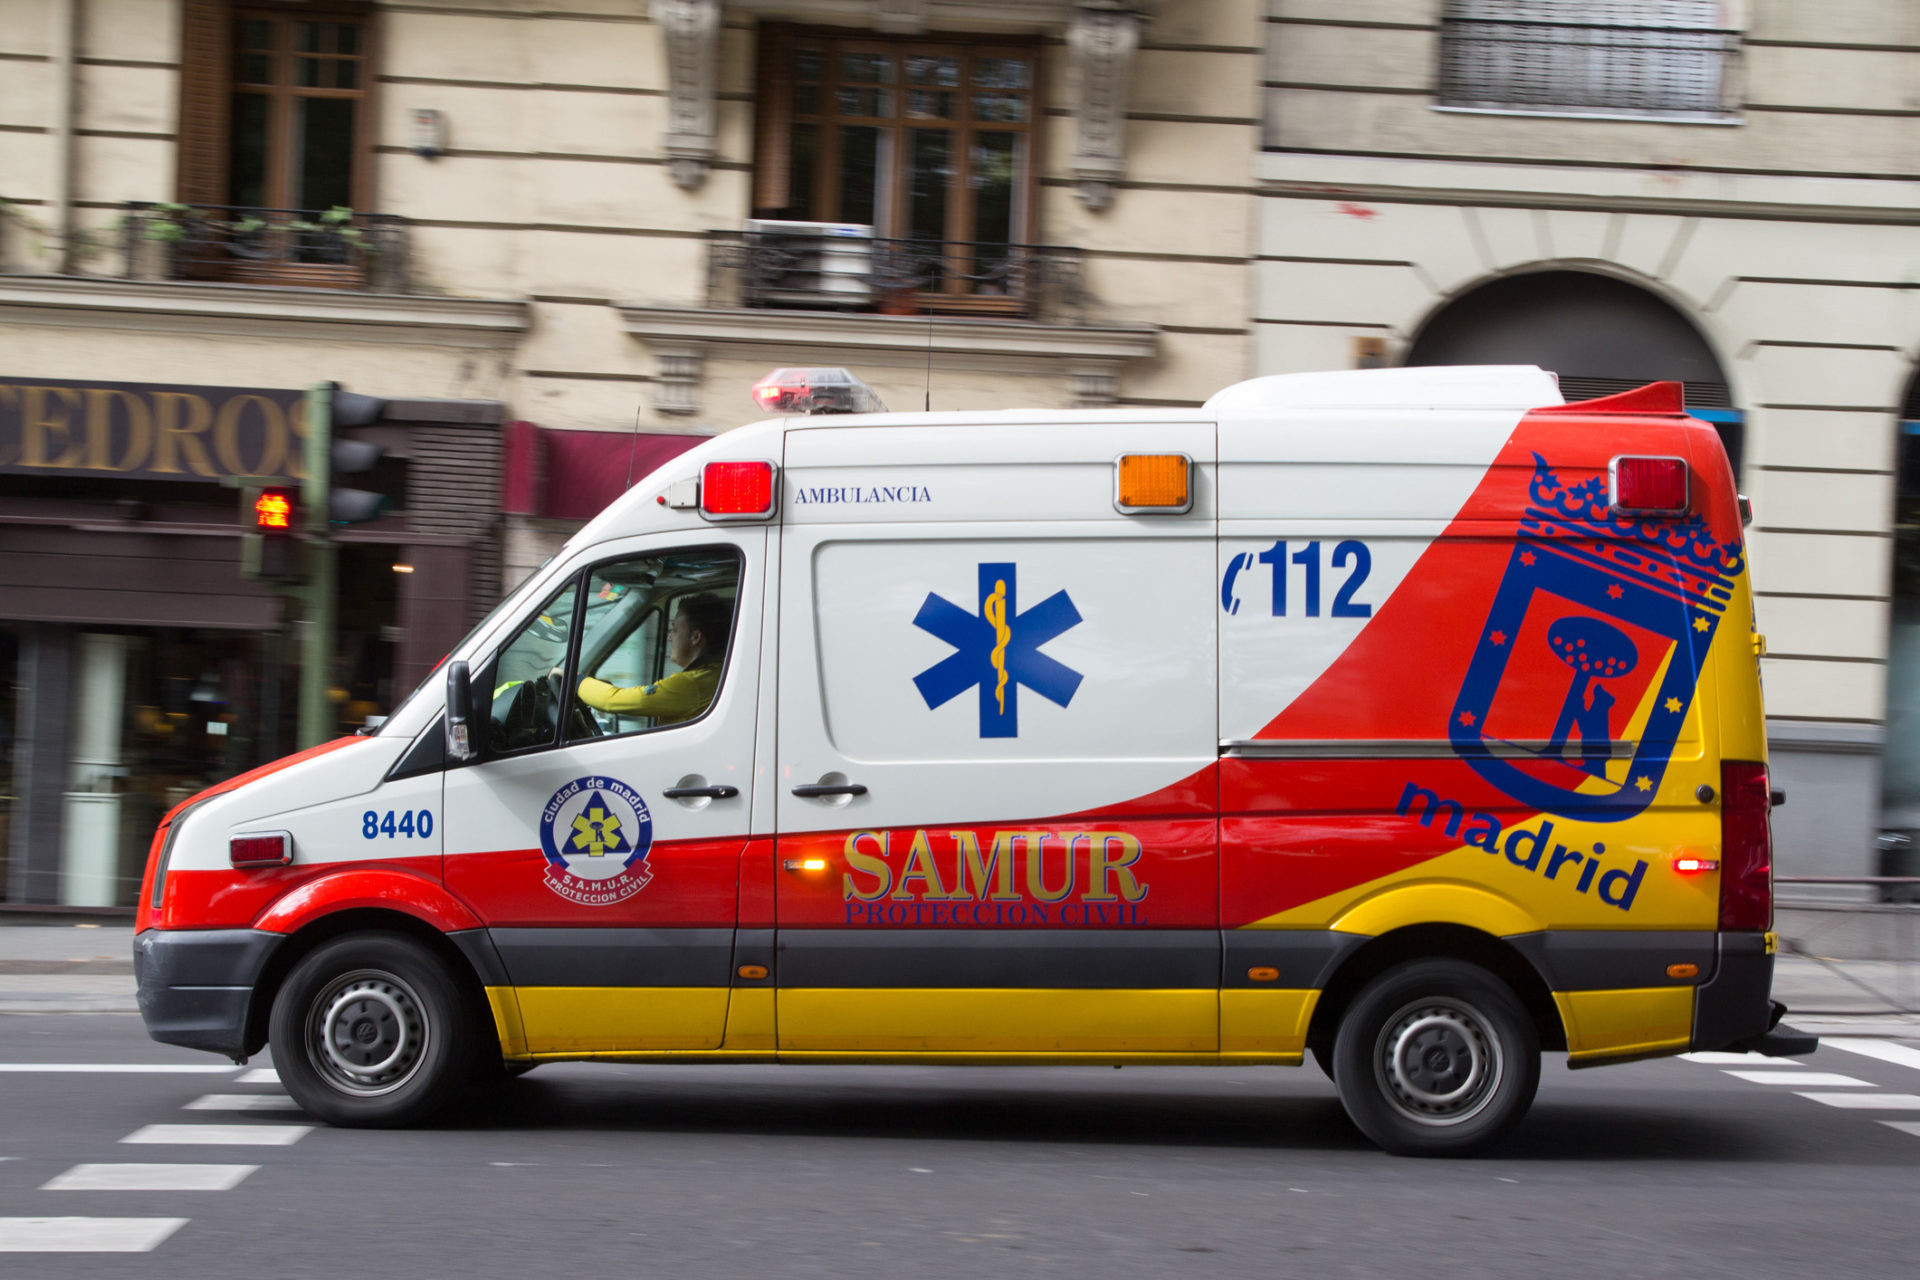special: (134, 359, 1794, 1154)
